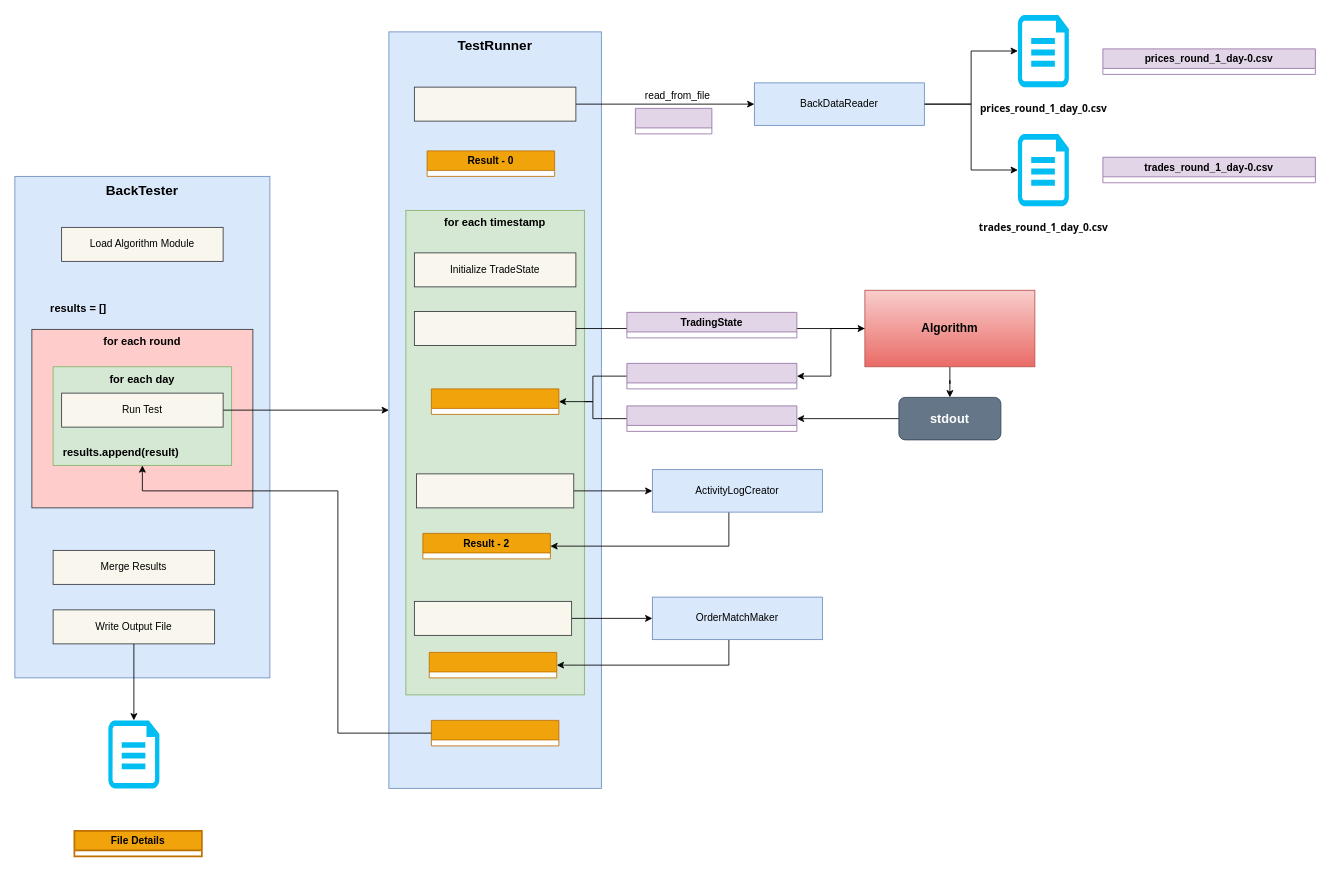
Some shapes in this 1330 by 871 pixel diagram are drawn without their labels. The centre of each missing label's shape, as x and y in pixels:
"2026-03-01_08-35-51.log" goes at [133,754].
"BackData" goes at [673,121].
"Create Activity Logs" goes at [495,490].
"lambda_log" goes at [711,418].
"Match Orders" goes at [493,618].
"Read Data" goes at [495,103].
"Result - 1" goes at [495,401].
"Result - 3" goes at [492,665].
"Result - 4" goes at [495,733].
"Return" goes at [711,376].
"Trade" goes at [495,328].
